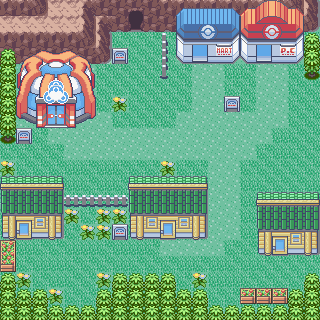cave: (110, 3, 160, 35)
misc: (16, 49, 98, 131)
normal_house: (125, 174, 209, 241), (1, 174, 67, 243), (255, 189, 320, 258)
pokemart: (174, 7, 241, 66)
pokemon_center: (240, 1, 306, 65)
